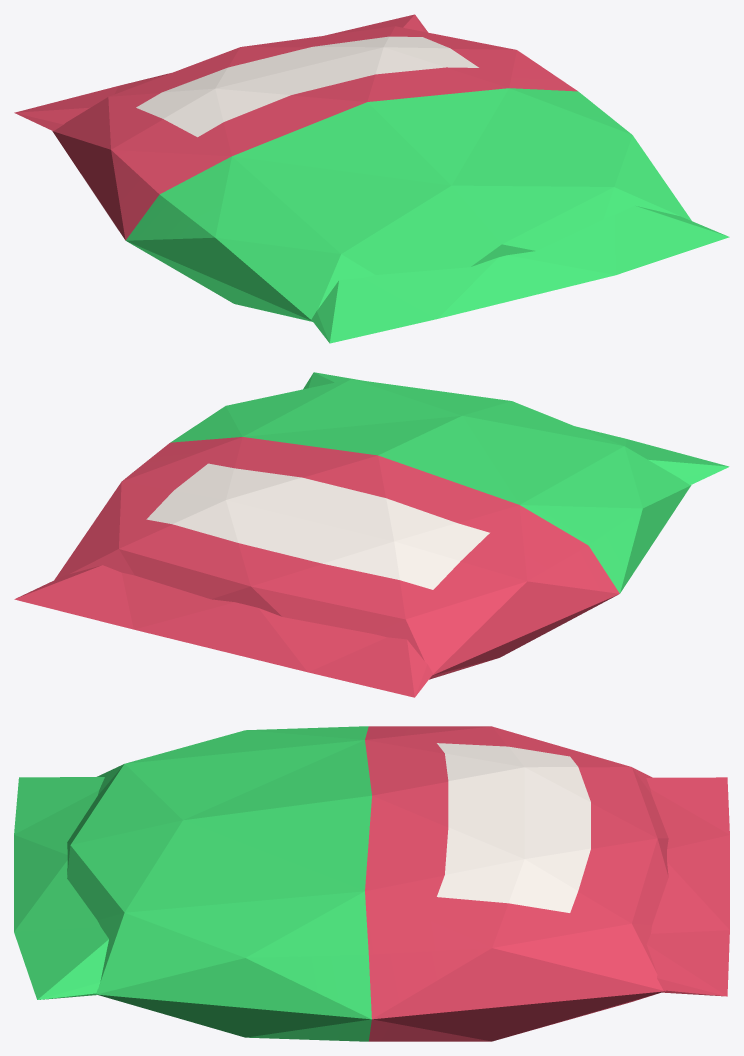
The model's file is Snack4.fbx.
3 views of the same model, one above another, from view 1: azimuth 30°, elevation 25°; view 2: azimuth 150°, elevation 25°; view 3: azimuth 270°, elevation 25° (orthographic). The views are drawn at different scales.
Parts seen in each view (by area): view 1: Snack3; view 2: Snack3; view 3: Snack3.
Part boxes in pixels (x1,y1,x2,y2): Snack3: [14, 14, 729, 343]; Snack3: [14, 372, 729, 697]; Snack3: [14, 726, 729, 1041].
Bounding box in the file's own units: 30 × 8.81 × 33.88.
